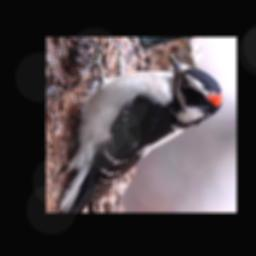Woodpecker: (57, 50, 227, 211)
